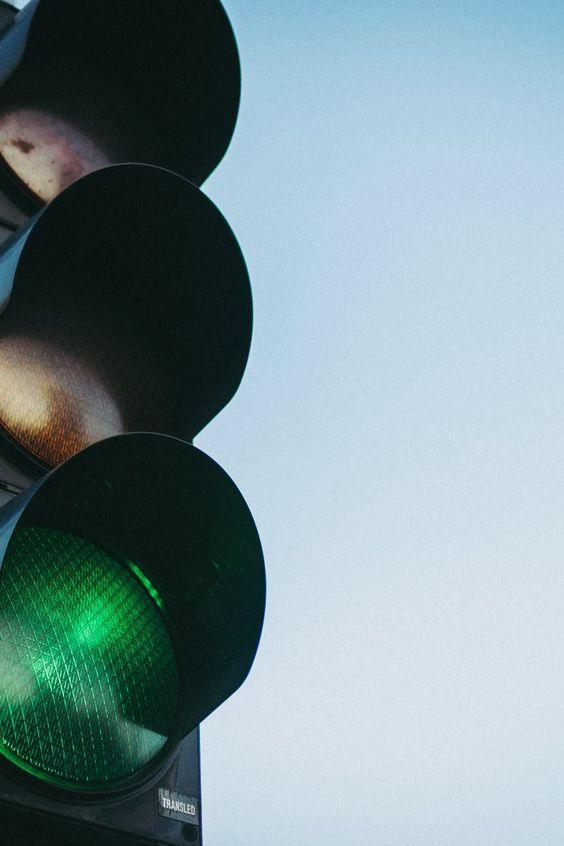green: (0, 0, 282, 846)
